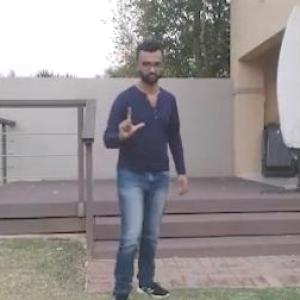land_hand: (112, 100, 148, 145)
